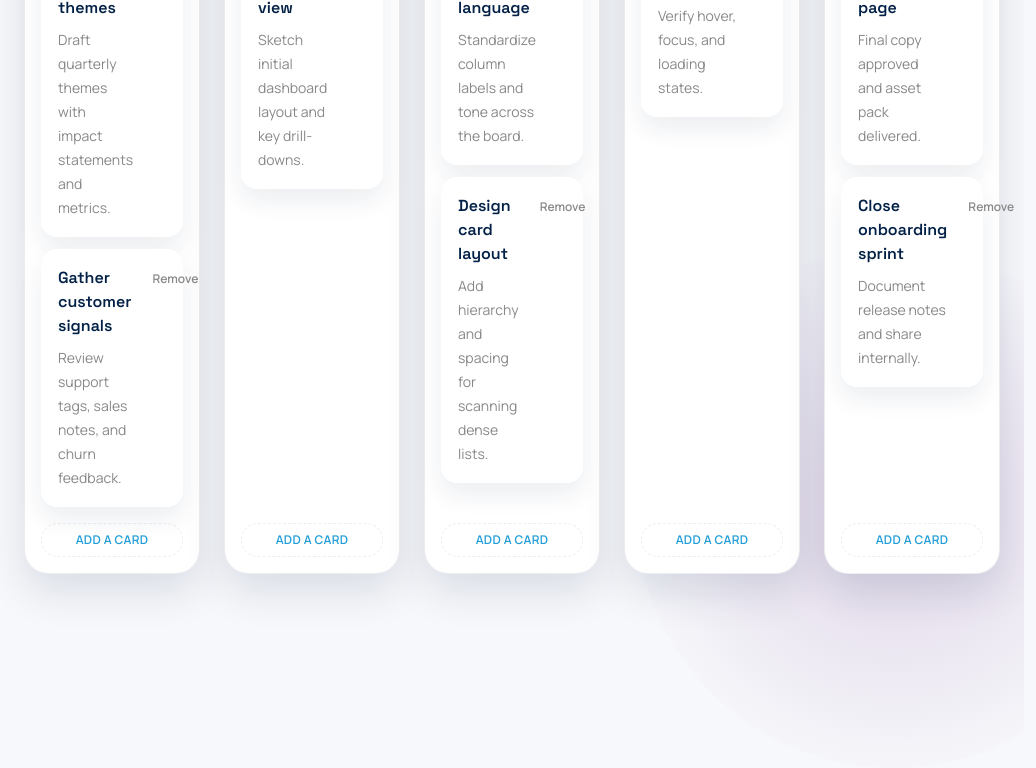
Test: KanbanBoard › adds and removes a card
(page scrolled)
Click the 1st button "Add a card": (112, 540) [41, 523, 183, 557]
(page scrolled)
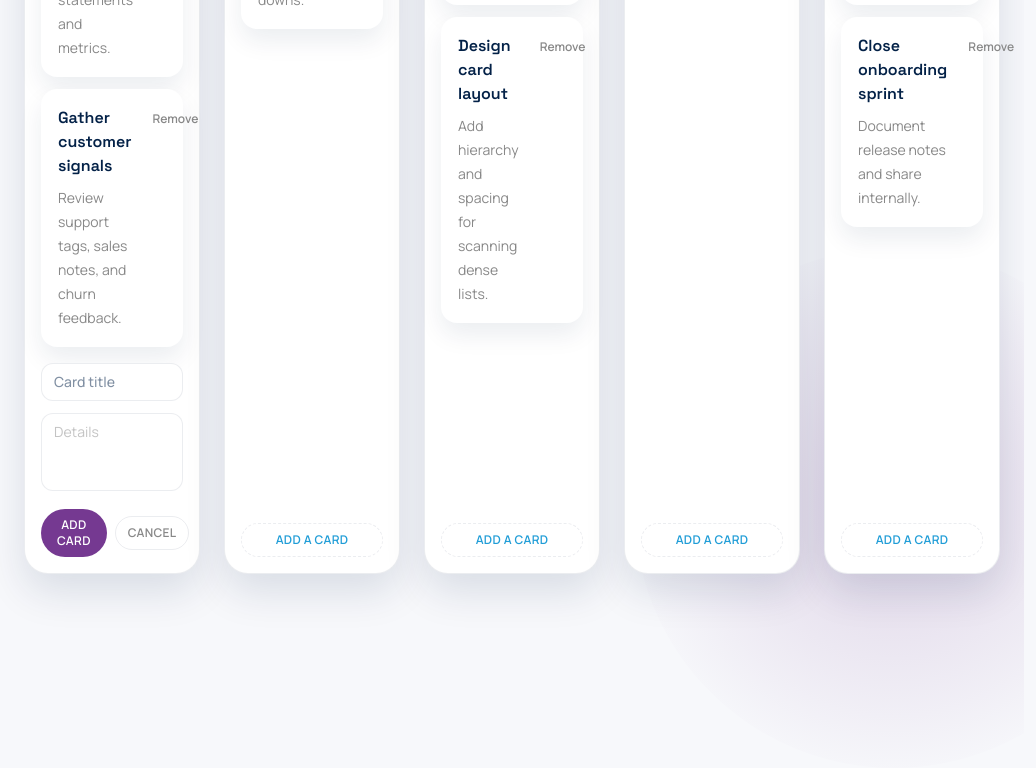
In the field with placeholder "Card title": (112, 382) [41, 363, 183, 401], type "New card"
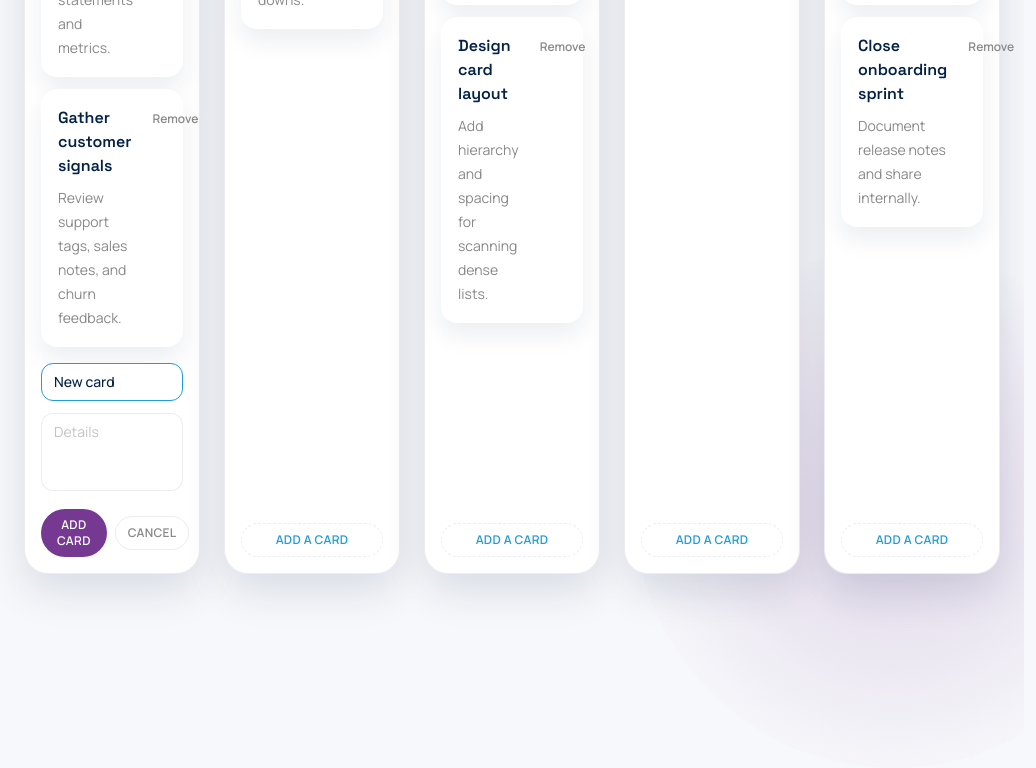
In the text box with placeholder "Details": (112, 452) [41, 413, 183, 491], type "Notes"
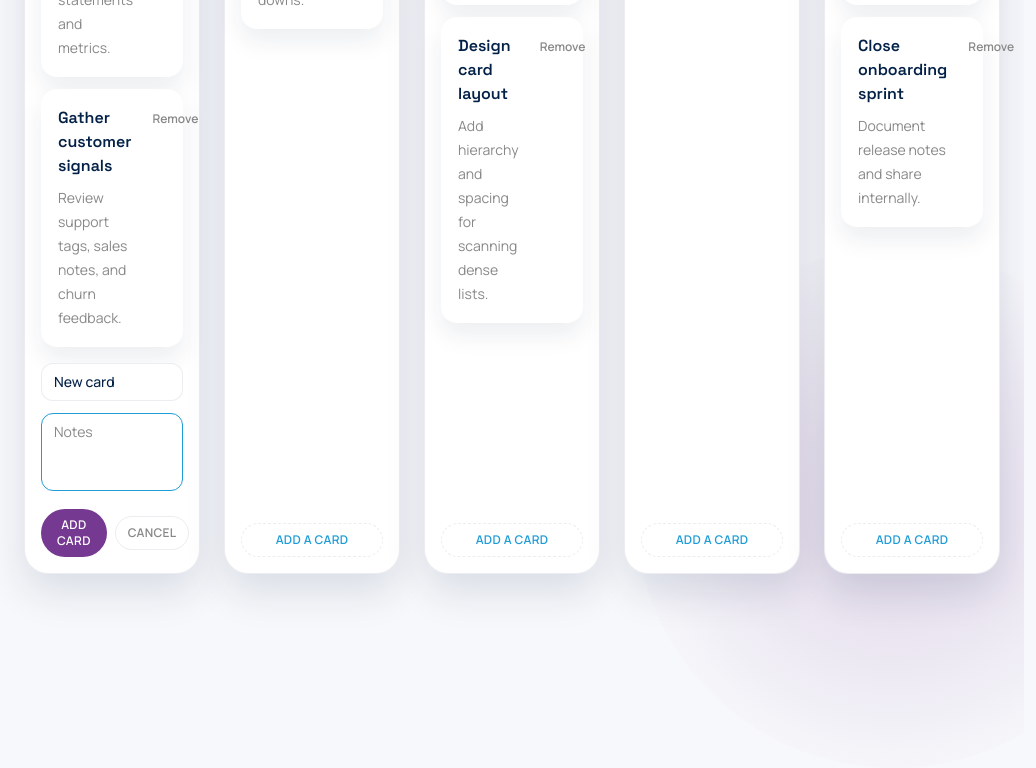
Click the button "Add card": (74, 533) [41, 509, 107, 557]
(page scrolled)
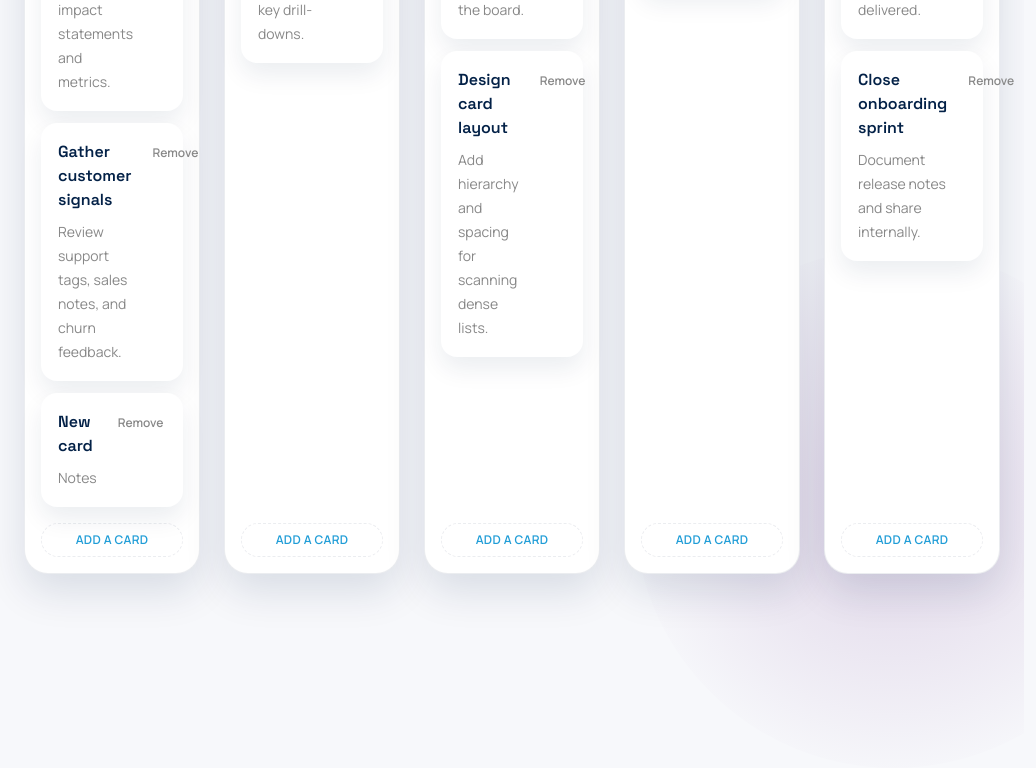
expect the heading "New card" is shown: met, box [58, 410, 97, 458]
Click the button with aria-label "delete new card": (141, 423) [109, 410, 172, 436]
(page scrolled)
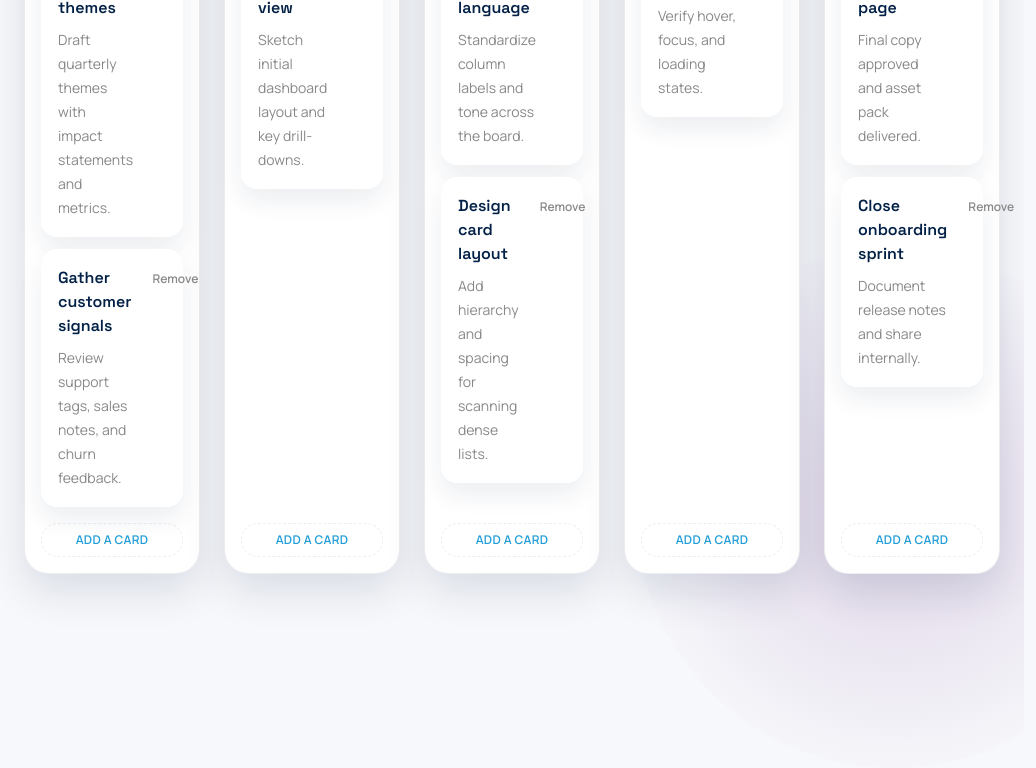
expect the button "New card" is gone: met
